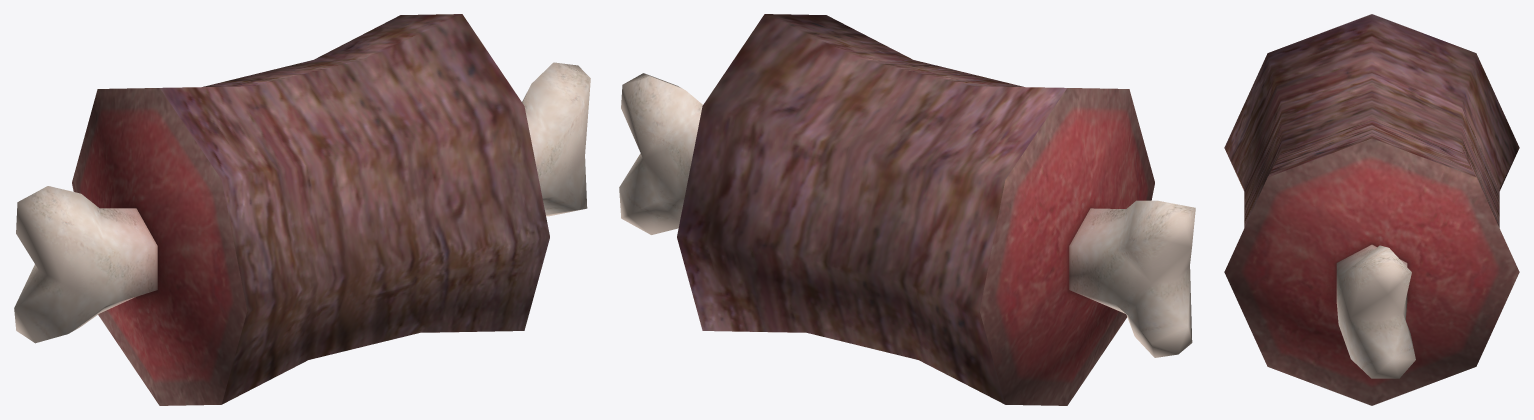
The model's file is MeatComic.fbx.
3 renders of one model, left to right at view 1: azimuth 30°, elevation 25°; view 2: azimuth 150°, elevation 25°; view 3: azimuth 270°, elevation 25°, orthographic. The views are drawn at different scales.
Visible parts, largest first — view 1: Empty_Mesh; view 2: Empty_Mesh; view 3: Empty_Mesh.
Boxes of the visible parts, box(x1,y1,x2,y2) form: Empty_Mesh: box(14, 14, 590, 405); Empty_Mesh: box(619, 14, 1195, 405); Empty_Mesh: box(1224, 14, 1519, 405).
Bounding box in the file's own units: 0.5092 × 0.271 × 0.271.
